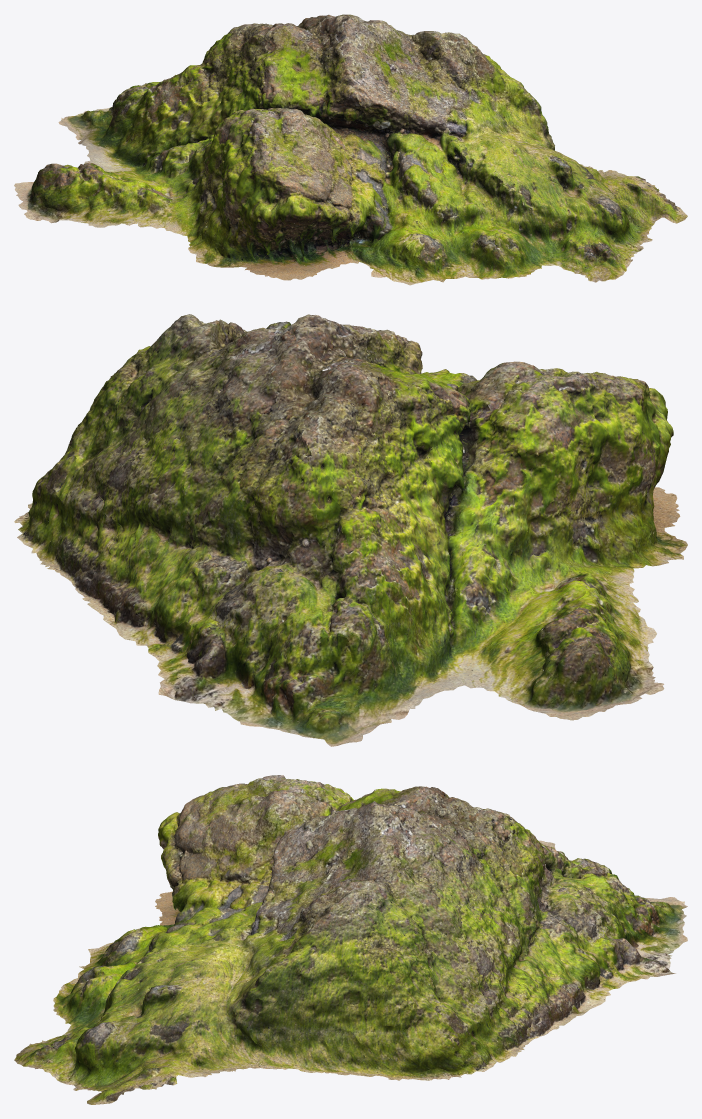
The model's file is beach_boulder.glb.
The picture shows the model from 3 angles, top to bottom: view 1: azimuth 30°, elevation 25°; view 2: azimuth 150°, elevation 25°; view 3: azimuth 270°, elevation 25°; orthographic projection. The views are drawn at different scales.
Visible parts, largest first — view 1: Object_3, Object_4; view 2: Object_3, Object_4; view 3: Object_3, Object_4.
Boxes of the visible parts, x1,y1,x2,y2 form: Object_3: (14,15,687,285); Object_4: (85,14,687,279); Object_3: (14,314,687,746); Object_4: (76,319,656,661); Object_3: (14,775,687,1104); Object_4: (53,808,535,1104).
Bounding box in the file's own units: 17.03 × 5.65 × 17.47.
1 material, 1 textured.
